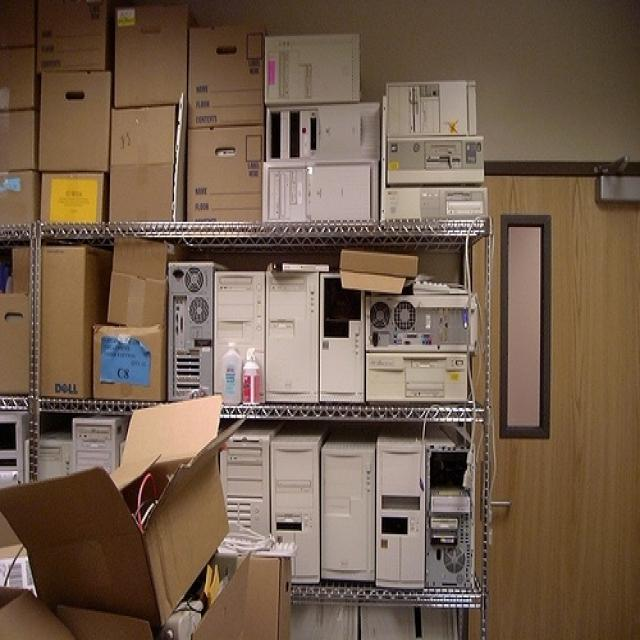E-waste: (257, 16, 497, 229), (170, 247, 467, 396), (225, 433, 472, 576)
Metal: (5, 381, 484, 436), (0, 207, 490, 257)
